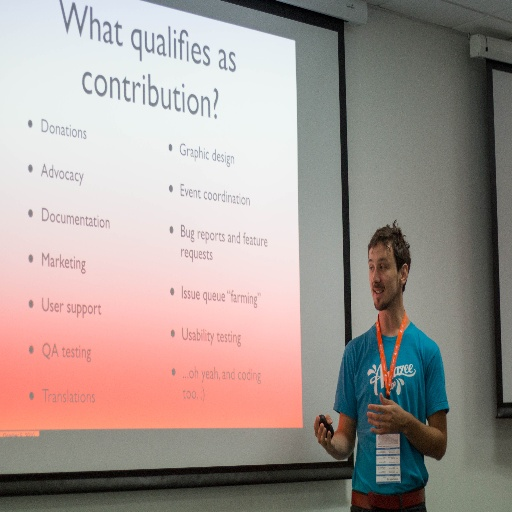hand: (366, 346, 449, 462), (311, 413, 336, 457)
